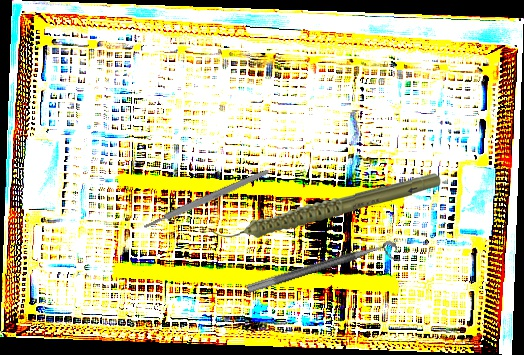Fixation Ring: (246, 238, 401, 307)
Handpiece: (210, 171, 442, 241)
Scalpel Handle: (142, 167, 270, 231)
